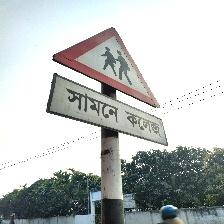College-in-front: (43, 12, 180, 154)
